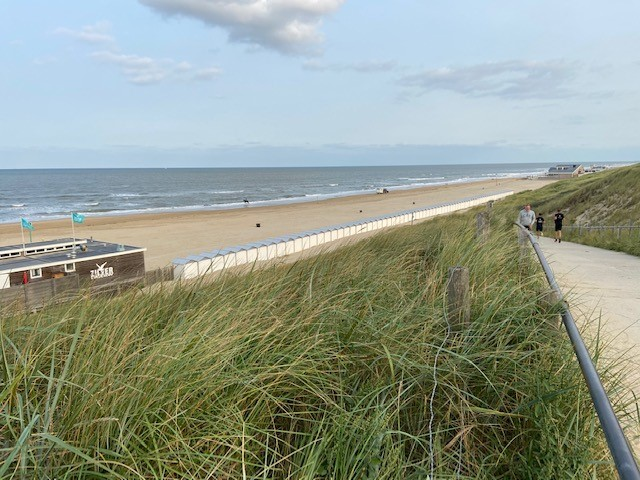strandtent: (532, 158, 592, 185)
